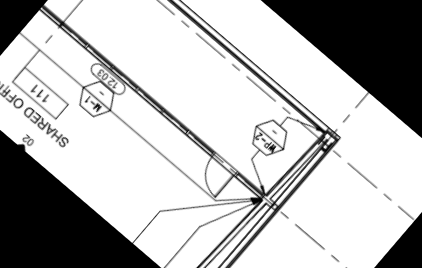door: (191, 153, 239, 201)
